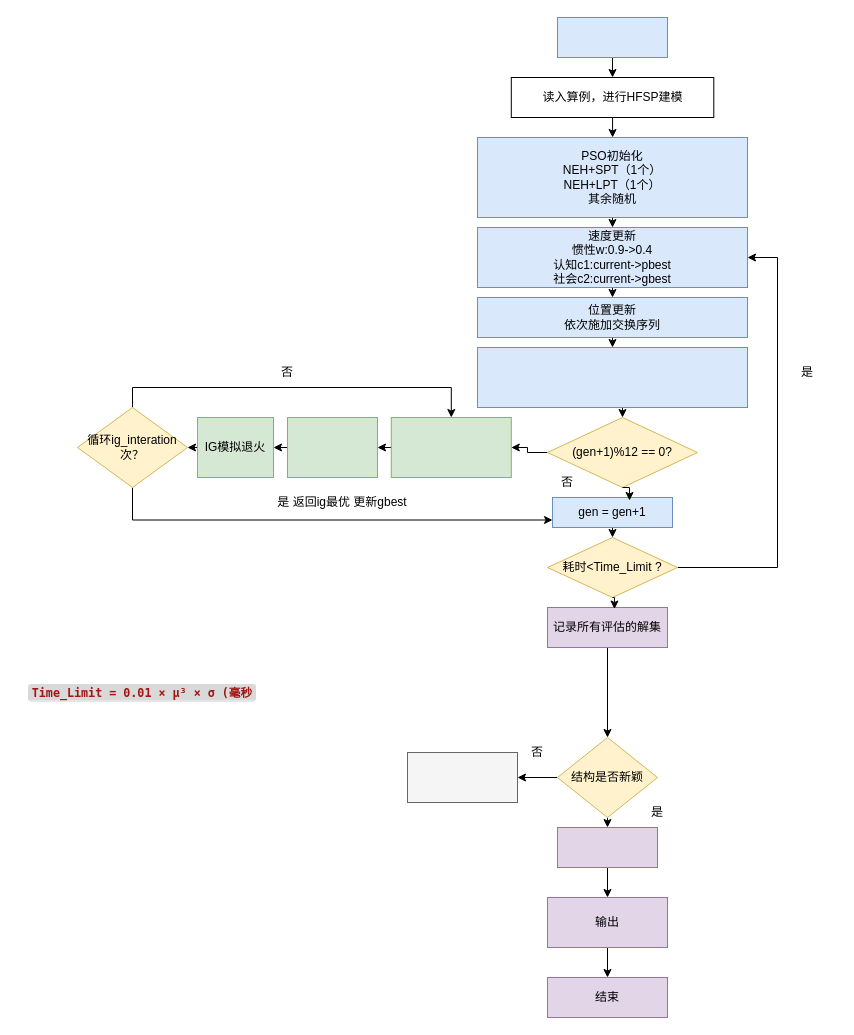
The diagram is 854 pixels wide and 1035 high, and some of its shapes have lost their labels. Here are the shapes that lost their labels. From the top down, the centre of each, then its label:
At (x=612, y=37): "开始".
At (x=612, y=377): "正向解码 (Forward) 反向解码 (Backward) Makespan =min(Makespan_Forward,Makespan_Backward)".
At (x=332, y=447): "IG重构 逐个尝试插入位置".
At (x=450, y=447): "IG破坏 d=round(0.3*n_jobs) 随机摘除d个工件".
At (x=462, y=777): "同一种调度形式".
At (x=607, y=847): "入档".
